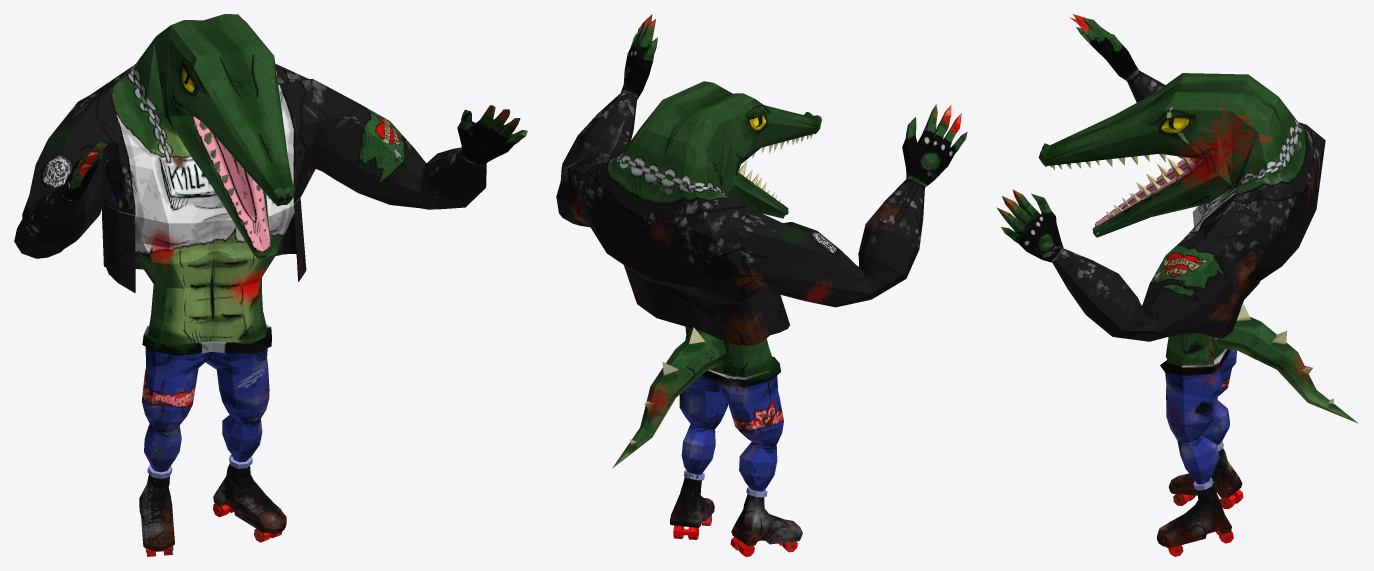
File: cocodrilaBonesSelect_000001.obj
The picture shows the model from 3 angles, left to right: view 1: azimuth 30°, elevation 25°; view 2: azimuth 150°, elevation 25°; view 3: azimuth 270°, elevation 25°; orthographic projection. The views are drawn at different scales.
Visible parts, largest first — view 1: Crocodile.002_Cylinder.002; view 2: Crocodile.002_Cylinder.002; view 3: Crocodile.002_Cylinder.002.
Boxes of the visible parts, x1,y1,x2,y2 form: Crocodile.002_Cylinder.002: (14, 14, 527, 556); Crocodile.002_Cylinder.002: (556, 14, 967, 556); Crocodile.002_Cylinder.002: (996, 14, 1358, 556).
Size of the model in its own units: 5.9 by 6.62 by 4.79.
